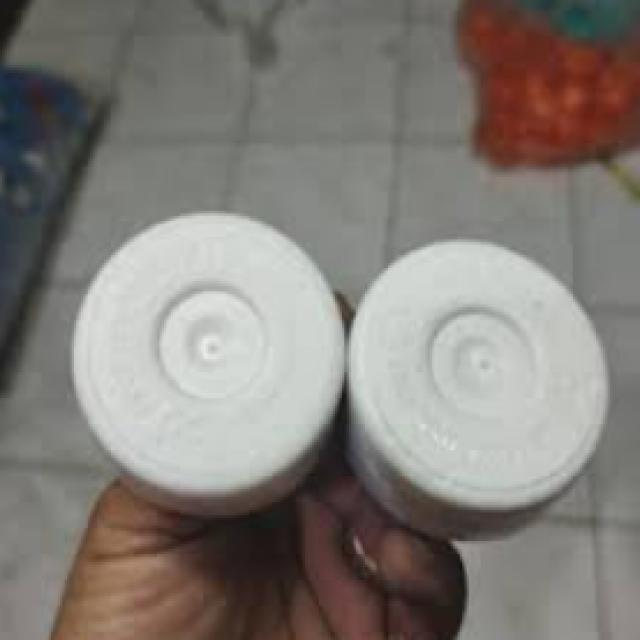TutupGalon: (76, 211, 614, 552)
